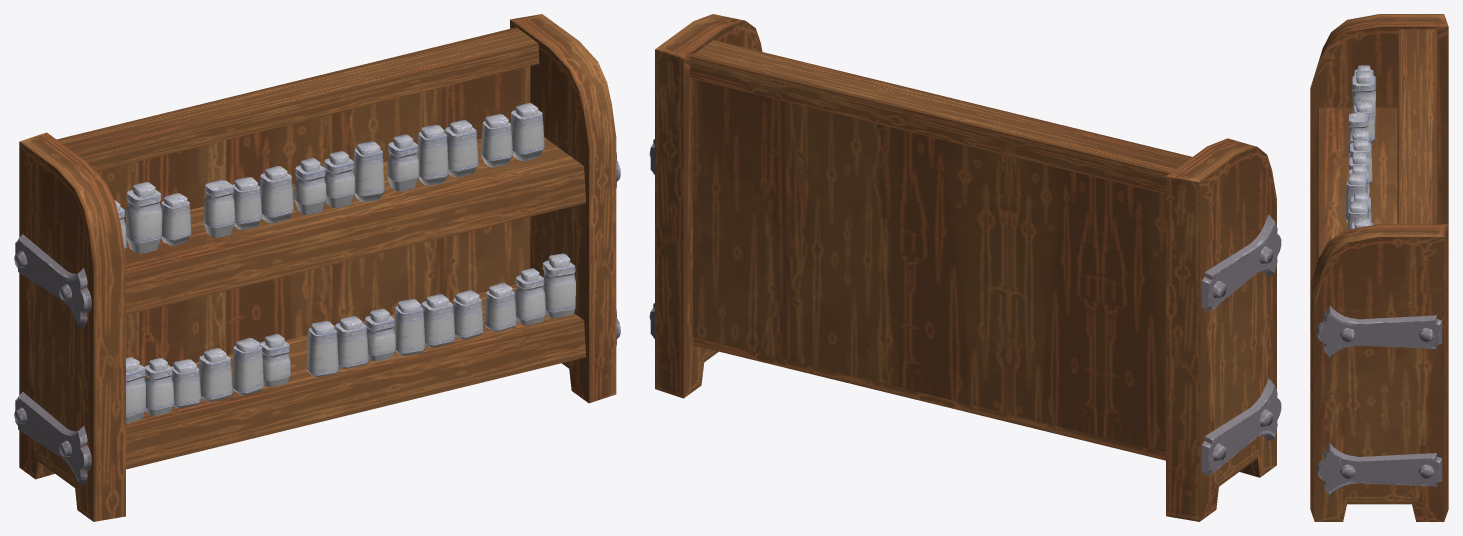
File: Shelf_Small_Bottles.fbx
3 views of the same model, side by side, from view 1: azimuth 30°, elevation 25°; view 2: azimuth 150°, elevation 25°; view 3: azimuth 270°, elevation 25° (orthographic). The views are drawn at different scales.
Visible parts, largest first — view 1: Shelf_Small_Bottles; view 2: Shelf_Small_Bottles; view 3: Shelf_Small_Bottles.
Part boxes in pixels (bbox=[...]): Shelf_Small_Bottles: bbox=[14, 14, 620, 521]; Shelf_Small_Bottles: bbox=[649, 14, 1281, 521]; Shelf_Small_Bottles: bbox=[1310, 14, 1448, 521].
Size of the model in its own units: 114 by 64.74 by 28.46.
